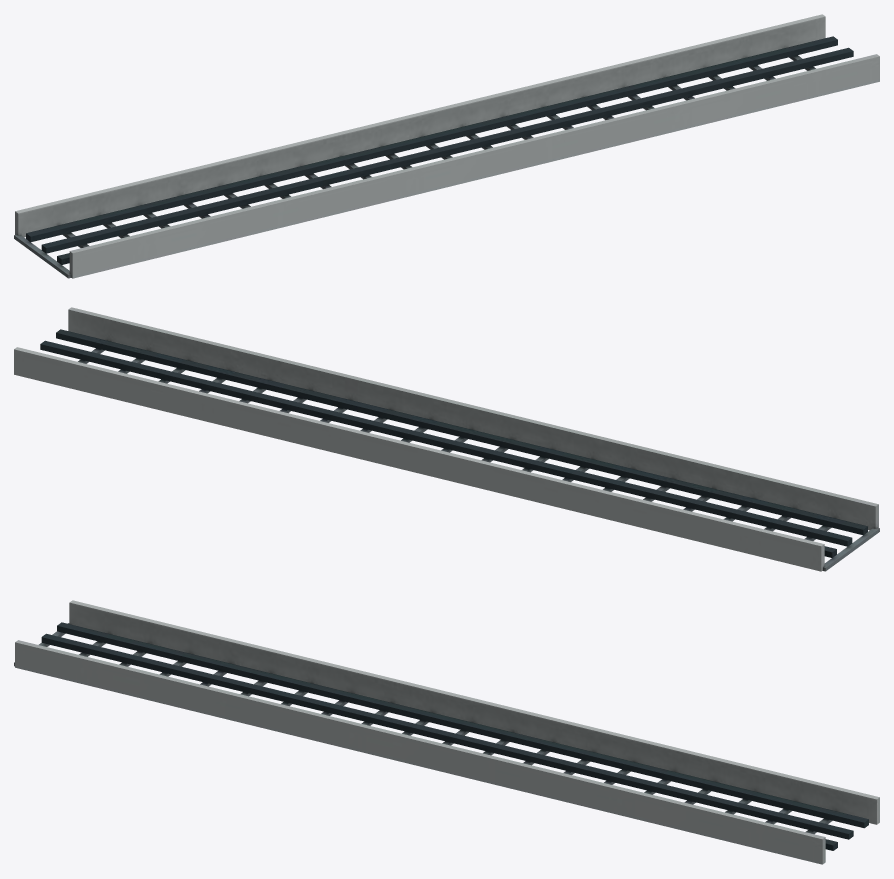
File: cable_tray.glb
3 renders of one model, top to bottom at view 1: azimuth 30°, elevation 25°; view 2: azimuth 150°, elevation 25°; view 3: azimuth 330°, elevation 25°, orthographic.
Visible parts, largest first — view 1: body; view 2: body; view 3: body.
Part boxes in pixels (x1,y1,x2,y2): body: (14,14,879,278); body: (14,307,879,571); body: (14,600,879,864).
Bounding box in the file's own units: 6.02 × 0.1826 × 0.7401.
Materials: 1 (1 with a texture image).
